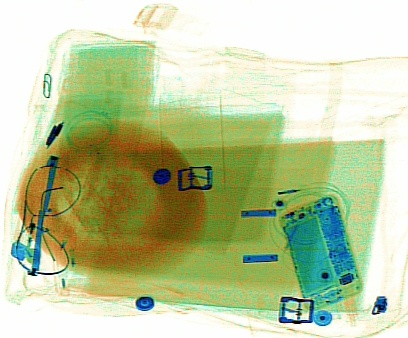lighter: (9, 183, 40, 261)
